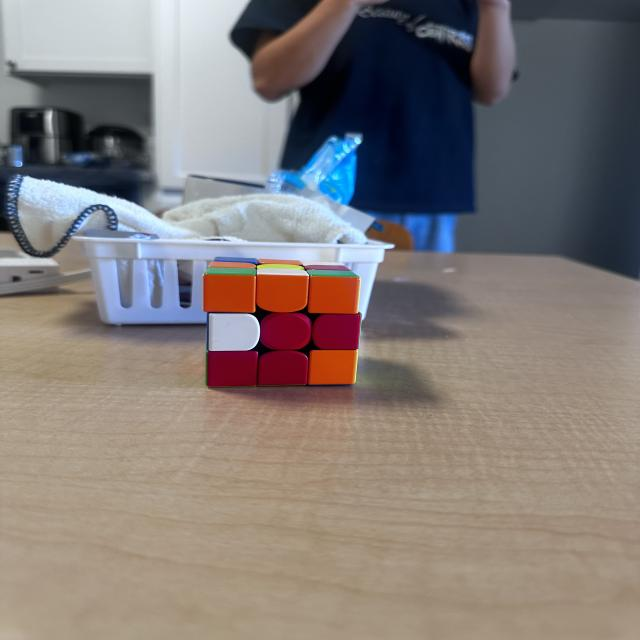sticker: (202, 262, 258, 312), (255, 264, 310, 314), (305, 268, 362, 316), (258, 311, 314, 353), (206, 349, 262, 389), (207, 312, 263, 352), (309, 313, 362, 352), (308, 349, 360, 386), (258, 350, 310, 387), (208, 261, 257, 269), (304, 264, 353, 272), (212, 256, 256, 264), (256, 259, 303, 266)
